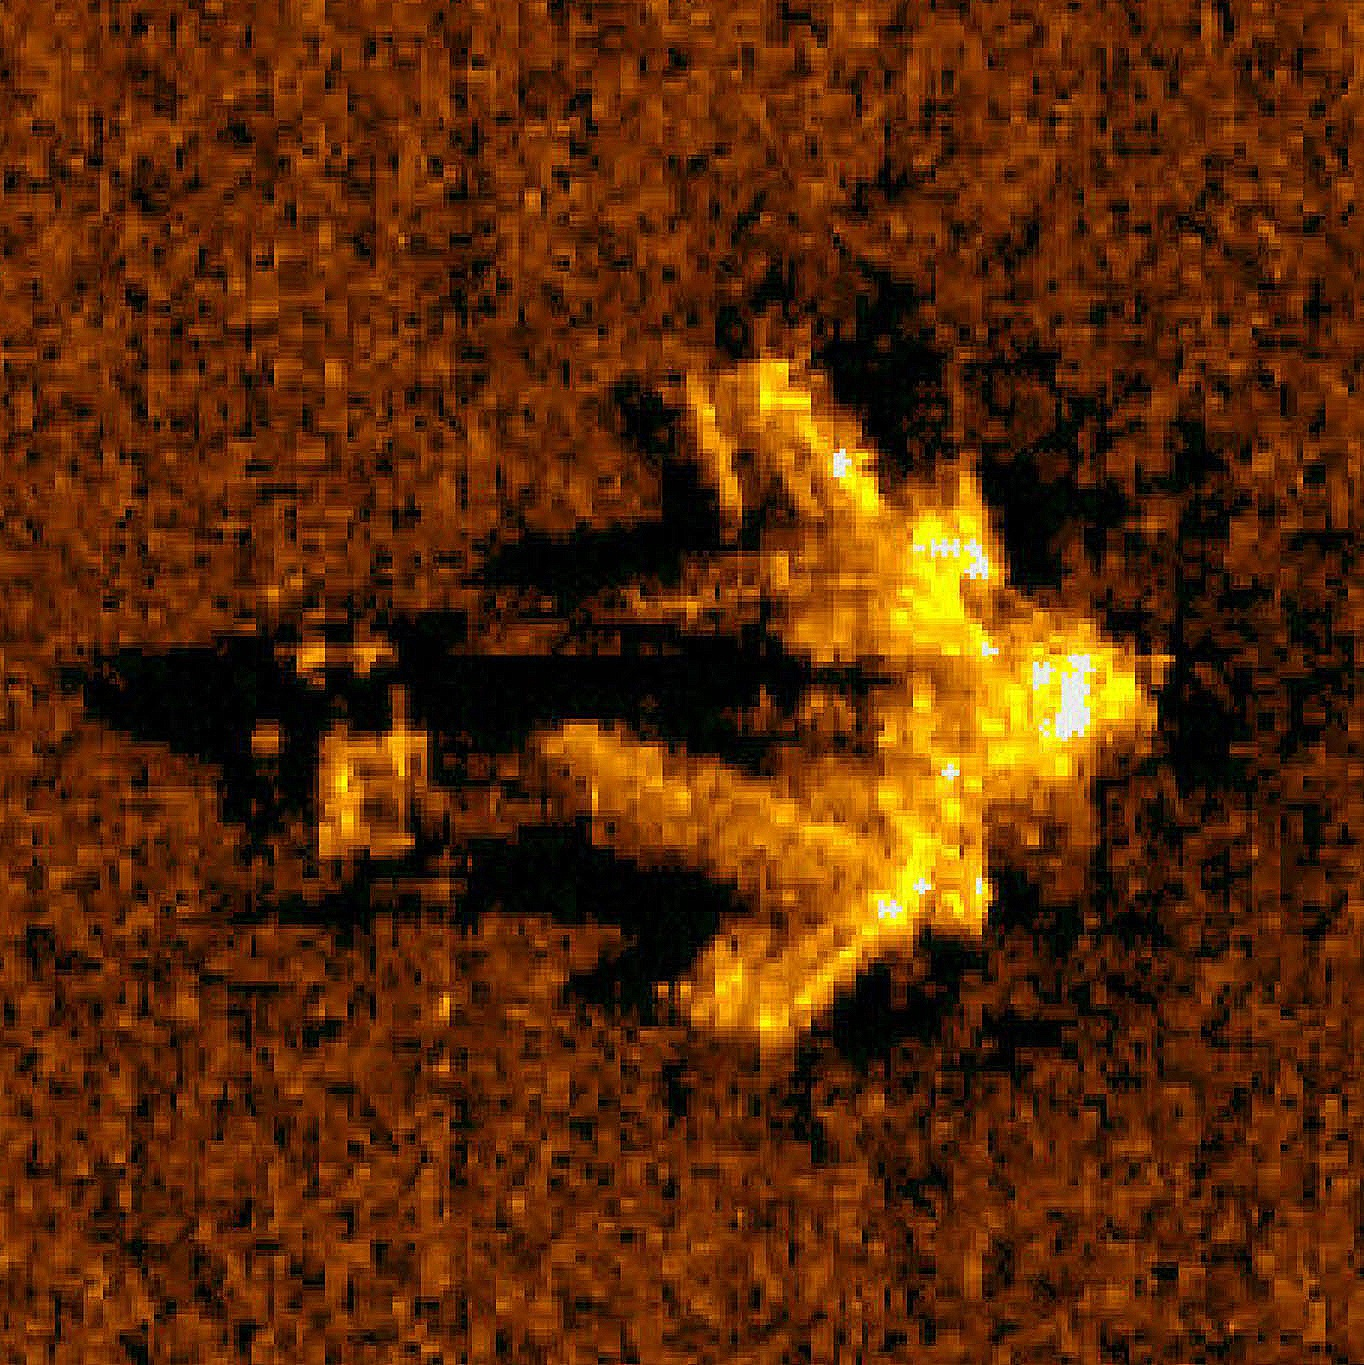aircraft: (224, 346, 1186, 1072)
